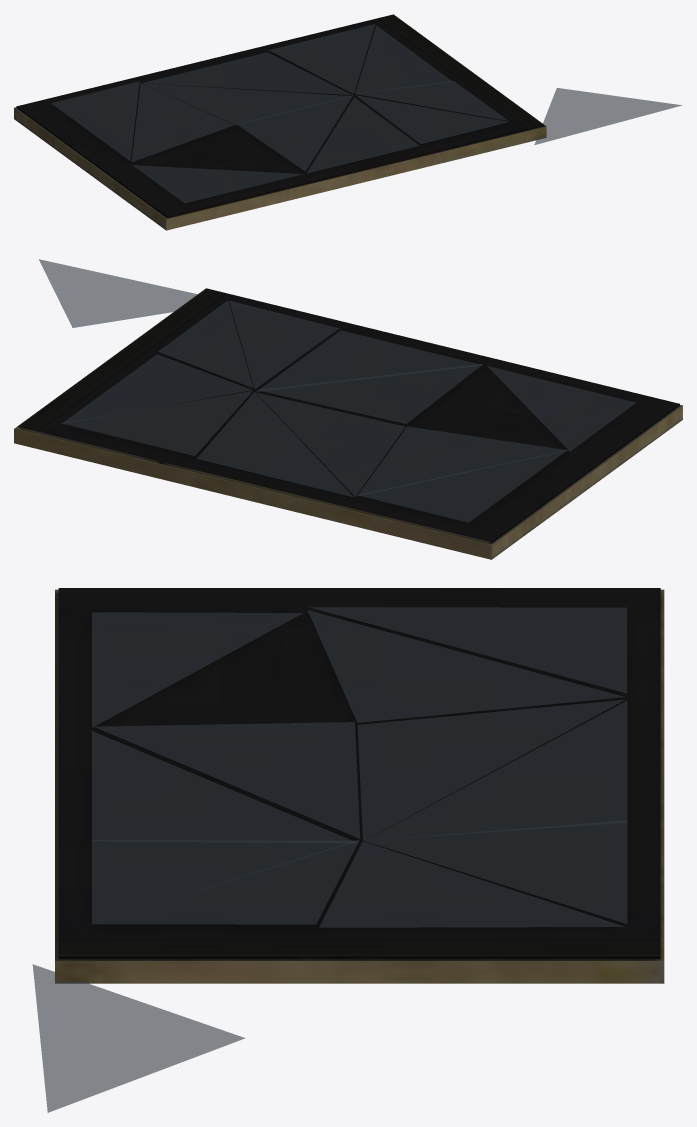
Rendered from tablet_broken_lod1_web.glb.
3 views of the same model, one above another, from view 1: azimuth 30°, elevation 25°; view 2: azimuth 150°, elevation 25°; view 3: azimuth 270°, elevation 25° (orthographic). The views are drawn at different scales.
Parts seen in each view (by area): view 1: TabletBroken_Body, Glass_Screen, Glass_Shard; view 2: TabletBroken_Body, Glass_Screen, Glass_Shard; view 3: TabletBroken_Body, Glass_Screen, Glass_Shard.
Part boxes in pixels (x1,y1,x2,y2): TabletBroken_Body: [14, 14, 546, 230]; Glass_Screen: [51, 24, 508, 203]; Glass_Shard: [534, 88, 681, 144]; TabletBroken_Body: [14, 288, 682, 559]; Glass_Screen: [61, 300, 635, 522]; Glass_Shard: [39, 259, 197, 327]; TabletBroken_Body: [55, 588, 664, 983]; Glass_Screen: [92, 607, 627, 927]; Glass_Shard: [32, 964, 244, 1112].
Size of the model in its own units: 0.3317 by 0.01 by 0.1762.
Materials: 2 (1 with a texture image).
